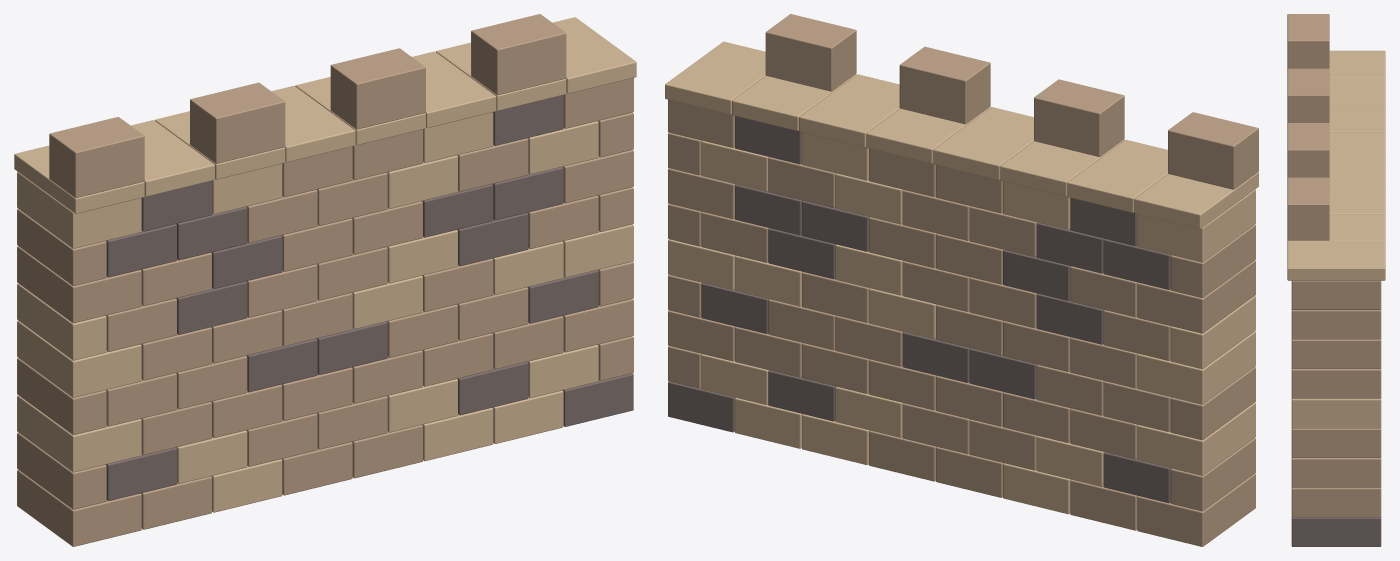
File: ashwick-straight-curtain-wall.meshopt.glb
The picture shows the model from 3 angles, left to right: view 1: azimuth 30°, elevation 25°; view 2: azimuth 150°, elevation 25°; view 3: azimuth 270°, elevation 25°; orthographic projection. The views are drawn at different scales.
Visible parts, largest first — view 1: Wall blocks.003, Wall blocks.004, Wall blocks.005, Wall crown.003, Wall crown.002; view 2: Wall blocks.003, Wall blocks.004, Wall blocks.005, Wall crown.002, Wall crown.003; view 3: Wall blocks.003, Wall crown.002, Wall crown.003, Wall blocks.004, Wall blocks.005.
Boxes of the visible parts, x1,y1,x2,y2 form: Wall blocks.003: [17, 78, 633, 546]; Wall blocks.004: [17, 112, 633, 512]; Wall blocks.005: [106, 95, 633, 500]; Wall crown.003: [49, 14, 566, 198]; Wall crown.002: [14, 17, 636, 213]; Wall blocks.003: [668, 99, 1255, 546]; Wall blocks.004: [668, 132, 1255, 514]; Wall blocks.005: [668, 116, 1171, 503]; Wall crown.002: [665, 41, 1258, 229]; Wall crown.003: [765, 14, 1258, 189]; Wall blocks.003: [1291, 280, 1381, 517]; Wall crown.002: [1287, 50, 1385, 280]; Wall crown.003: [1287, 14, 1329, 240]; Wall blocks.004: [1291, 398, 1381, 428]; Wall blocks.005: [1291, 517, 1381, 546].
Size of the model in its own units: 5.99 by 4.05 by 1.14.
